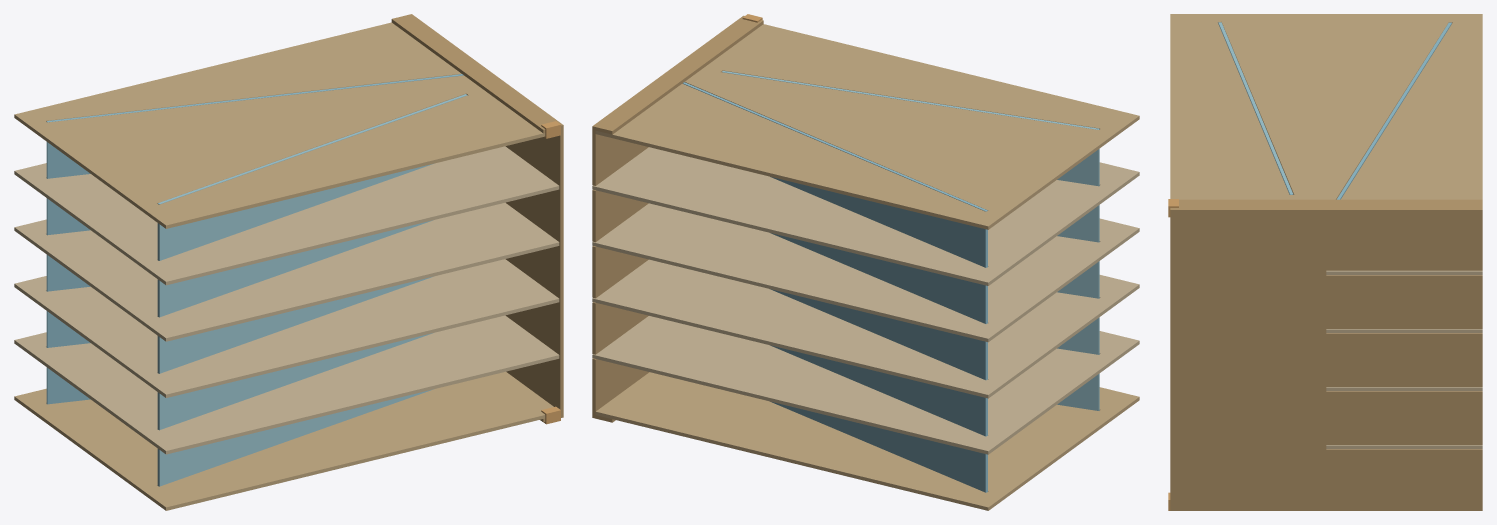
File: cassette_assembly.glb
3 renders of one model, left to right at view 1: azimuth 30°, elevation 25°; view 2: azimuth 150°, elevation 25°; view 3: azimuth 270°, elevation 25°, orthographic. The views are drawn at different scales.
Visible parts, largest first — view 1: wall_6, wall_4, wall_5, wall_3, wall_2, upper, wall_1, rear, lower, rear_wing_right; view 2: wall_6, wall_2, wall_4, wall_5, wall_3, wall_1, lower, rear, upper, rear_wing_right; view 3: rear, wall_6, rear_wing_right, rear_wing_left, wall_5, lower, upper, wall_2, wall_3, wall_4.
Boxes of the visible parts, x1=… form: wall_6: x1=14, y1=22, x2=545, y2=228; wall_4: x1=14, y1=202, x2=559, y2=341; wall_5: x1=14, y1=146, x2=559, y2=285; wall_3: x1=14, y1=259, x2=559, y2=397; wall_2: x1=14, y1=315, x2=559, y2=454; upper: x1=157, y1=94, x2=467, y2=486; wall_1: x1=14, y1=371, x2=553, y2=510; rear: x1=505, y1=128, x2=563, y2=414; lower: x1=46, y1=74, x2=463, y2=404; rear_wing_right: x1=391, y1=14, x2=563, y2=133; wall_6: x1=595, y1=24, x2=1139, y2=229; wall_2: x1=592, y1=316, x2=1139, y2=454; wall_4: x1=592, y1=203, x2=1139, y2=342; wall_5: x1=592, y1=147, x2=1139, y2=285; wall_3: x1=592, y1=259, x2=1139, y2=398; wall_1: x1=595, y1=372, x2=1139, y2=510; lower: x1=682, y1=82, x2=987, y2=492; rear: x1=592, y1=130, x2=649, y2=414; upper: x1=722, y1=71, x2=1099, y2=410; rear_wing_right: x1=592, y1=15, x2=763, y2=134; rear: x1=1170, y1=213, x2=1482, y2=507; wall_6: x1=1170, y1=14, x2=1482, y2=199; rear_wing_right: x1=1170, y1=199, x2=1482, y2=213; rear_wing_left: x1=1170, y1=507, x2=1482, y2=510; wall_5: x1=1326, y1=270, x2=1482, y2=275; lower: x1=1337, y1=22, x2=1451, y2=199; upper: x1=1218, y1=22, x2=1293, y2=194; wall_2: x1=1326, y1=445, x2=1482, y2=449; wall_3: x1=1326, y1=387, x2=1482, y2=391; wall_4: x1=1326, y1=329, x2=1482, y2=333.
Bounding box in the file's own units: 590 × 420 × 392.
